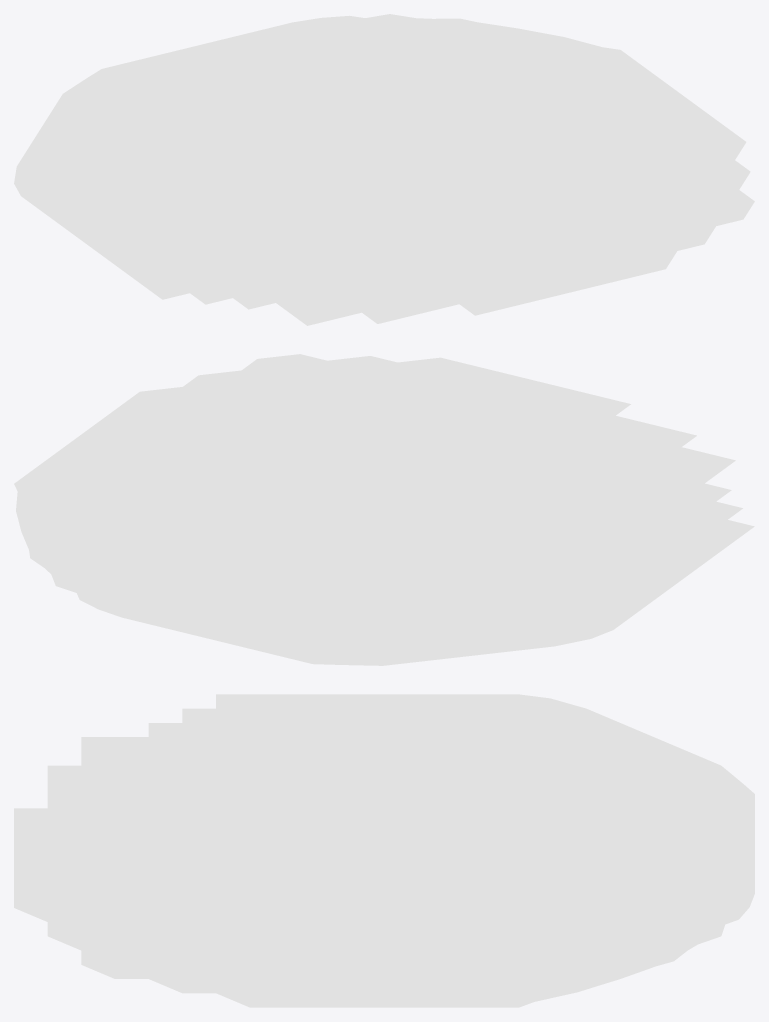
File: NDao Floor.fbx
3 views of the same model, one above another, from view 1: azimuth 30°, elevation 25°; view 2: azimuth 150°, elevation 25°; view 3: azimuth 270°, elevation 25° (orthographic). The views are drawn at different scales.
Parts seen in each view (by area): view 1: Floor; view 2: Floor; view 3: Floor.
Boxes of the visible parts, bbox=[...] form: Floor: bbox=[14, 14, 754, 325]; Floor: bbox=[14, 354, 754, 665]; Floor: bbox=[14, 694, 754, 1007].
Bounding box in the file's own units: 91.67 × 8.36e-06 × 91.67.
